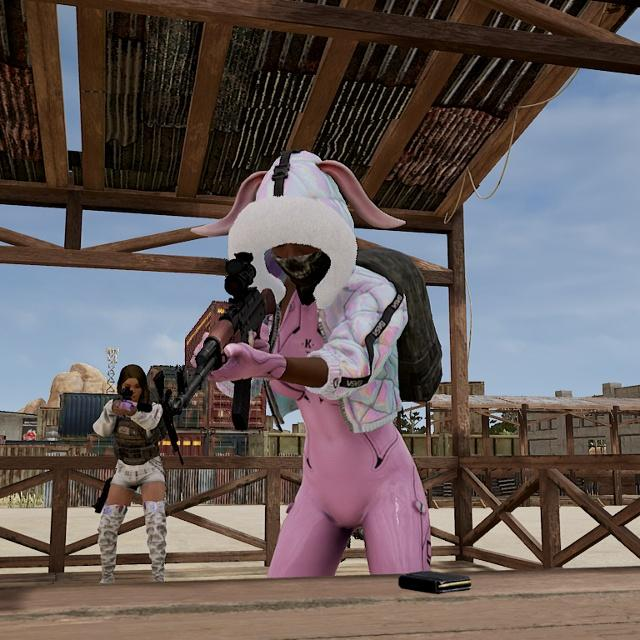head: (236, 151, 349, 302), (116, 361, 152, 411)
people: (221, 146, 439, 571), (88, 360, 177, 585)
